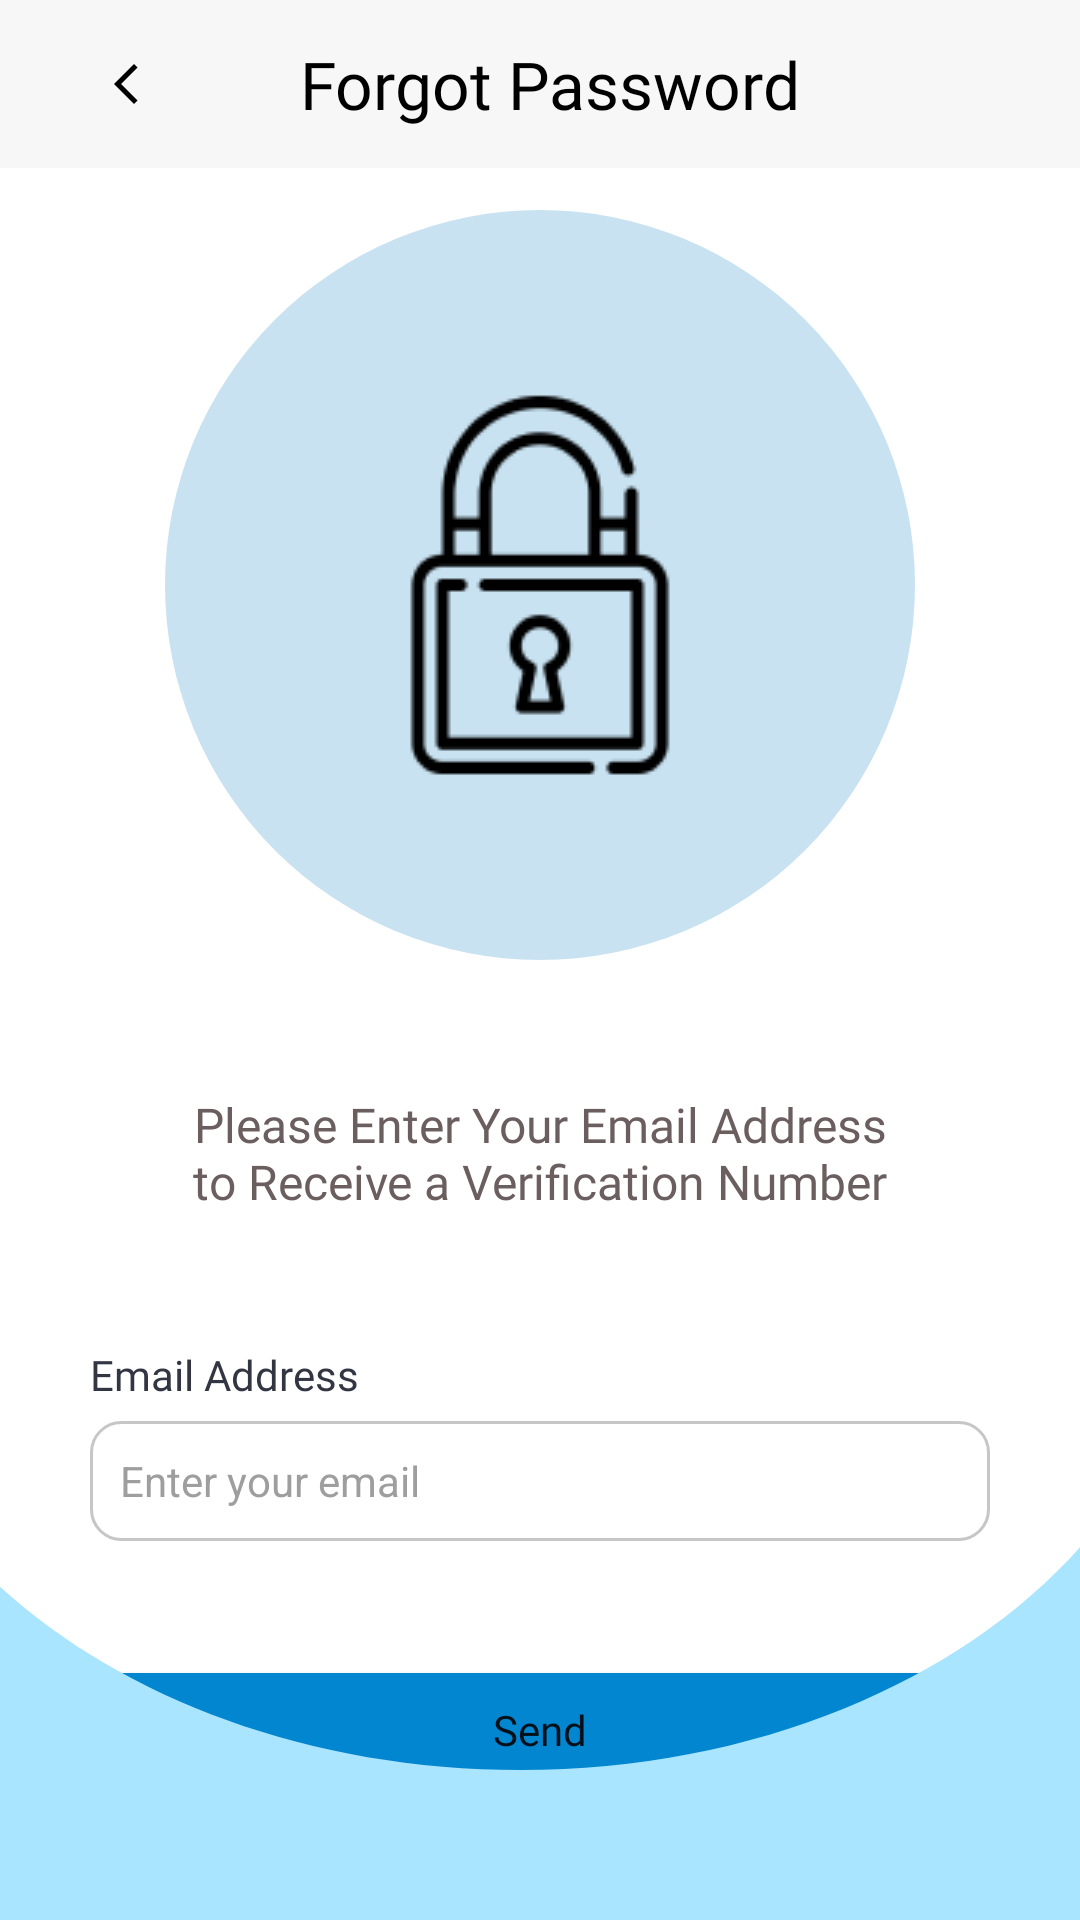

Named icons in this screenshot (1080 x 1920) and their bounding boxes, box(x1, y1, x2, y2):
arrow back: box(114, 64, 138, 104)
